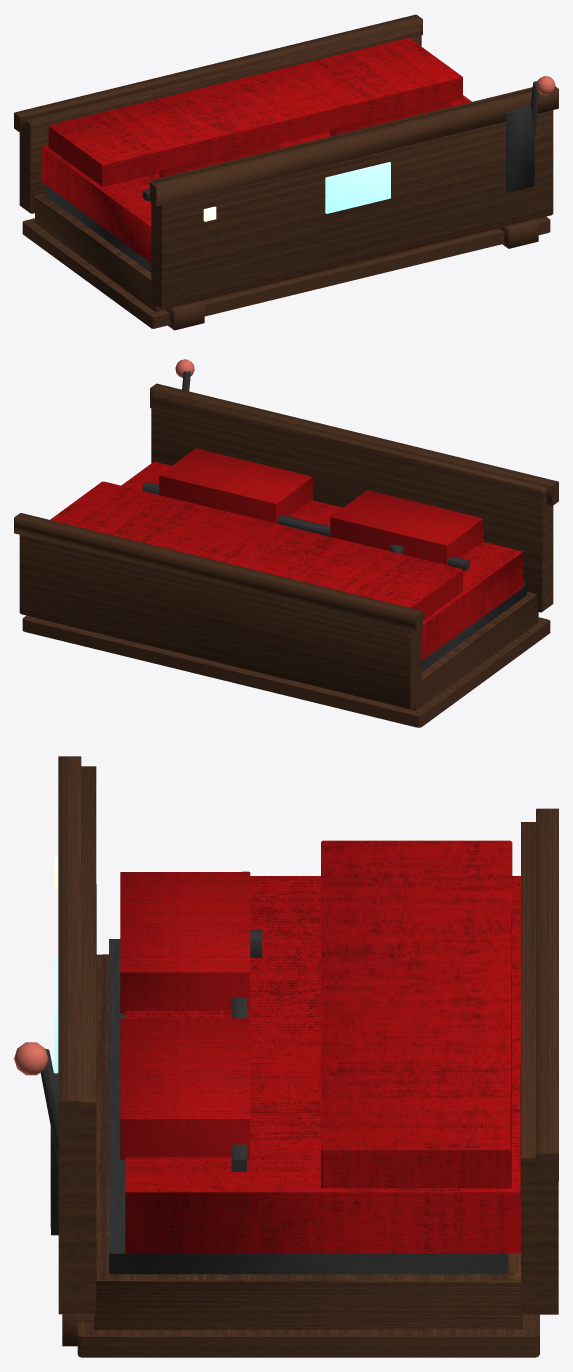
Rendered from hp_room_l02_p04.glb.
3 renders of one model, top to bottom at view 1: azimuth 30°, elevation 25°; view 2: azimuth 150°, elevation 25°; view 3: azimuth 270°, elevation 25°, orthographic. The views are drawn at different scales.
Visible parts, largest first — view 1: room_l02_p04; view 2: room_l02_p04; view 3: room_l02_p04.
Boxes of the visible parts, x1,y1,x2,y2 form: room_l02_p04: [14, 14, 558, 330]; room_l02_p04: [14, 359, 558, 727]; room_l02_p04: [14, 756, 558, 1357].
Size of the model in its own units: 2.12 by 0.8644 by 1.41.
Materials: 10 (7 with a texture image).
